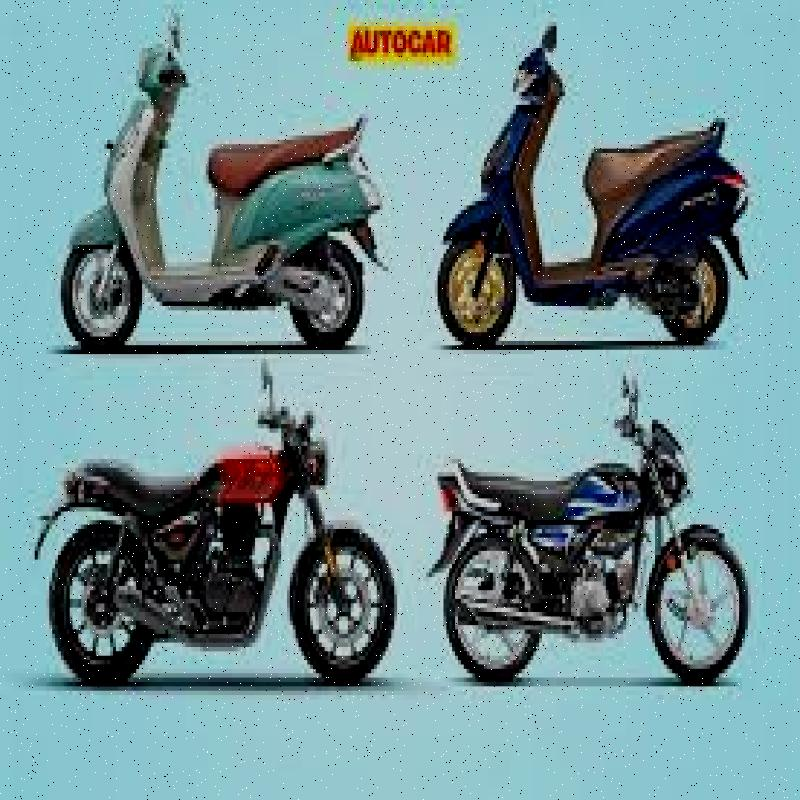bike: (25, 378, 400, 707), (50, 16, 390, 366), (424, 357, 748, 718), (429, 20, 750, 354)
